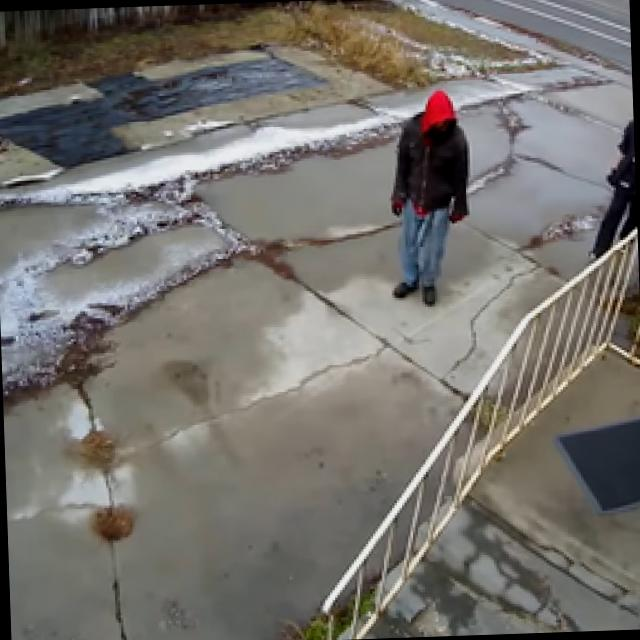person: (387, 87, 474, 305)
